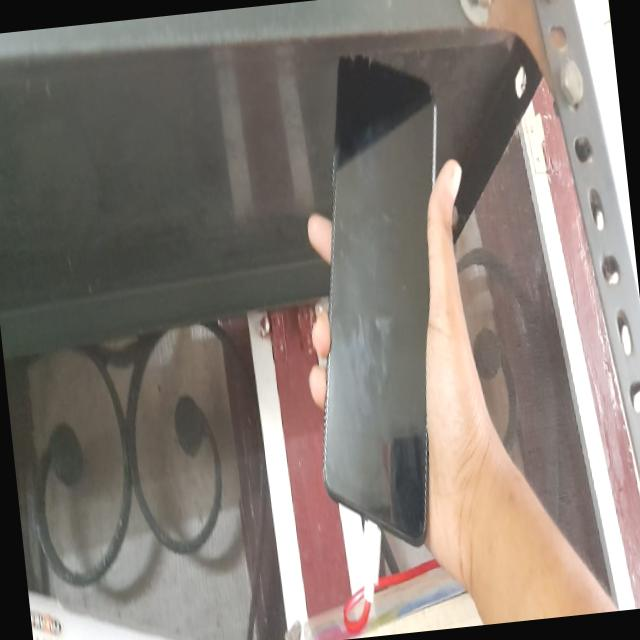Mobile - Recyclable: (243, 37, 488, 569)
